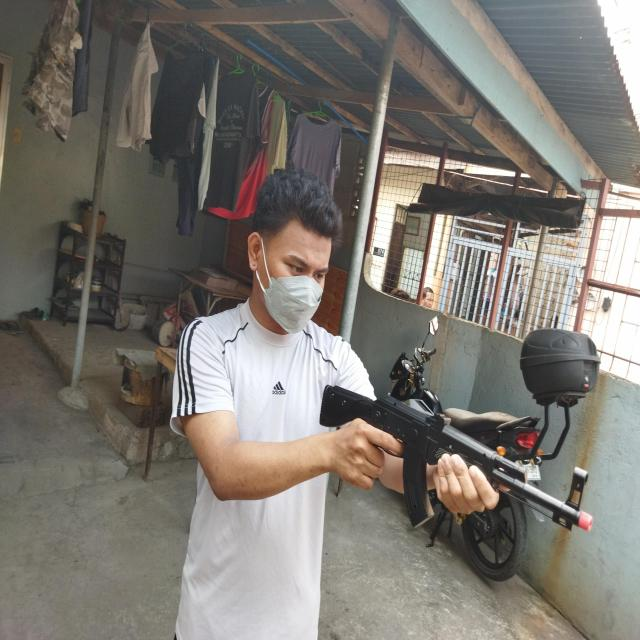rifle: (319, 384, 594, 532)
